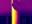Hotspot: (11, 0, 17, 23)
